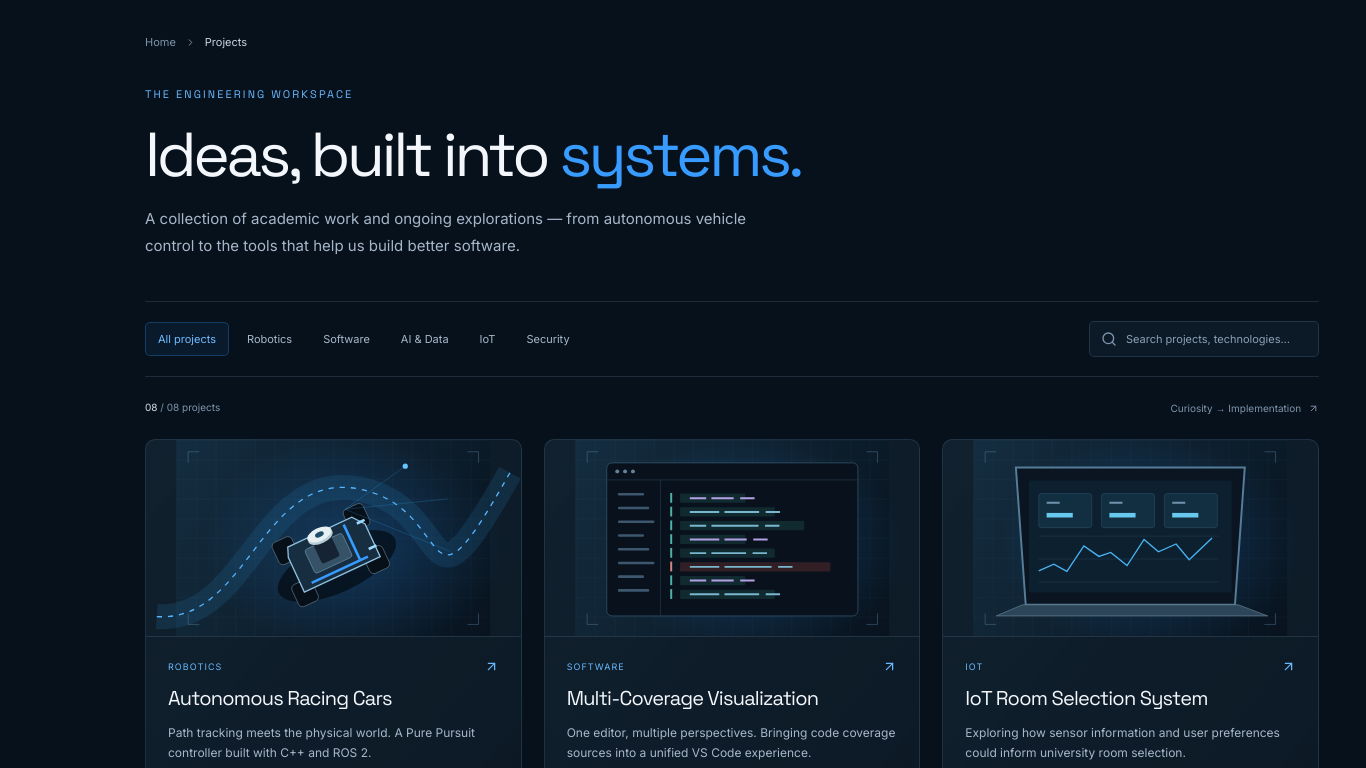
it: project discovery › supports category selection, search, no results and reset
The image size is (1366, 768).
Click the button "Robotics" at (270, 339), box [234,322,305,356]
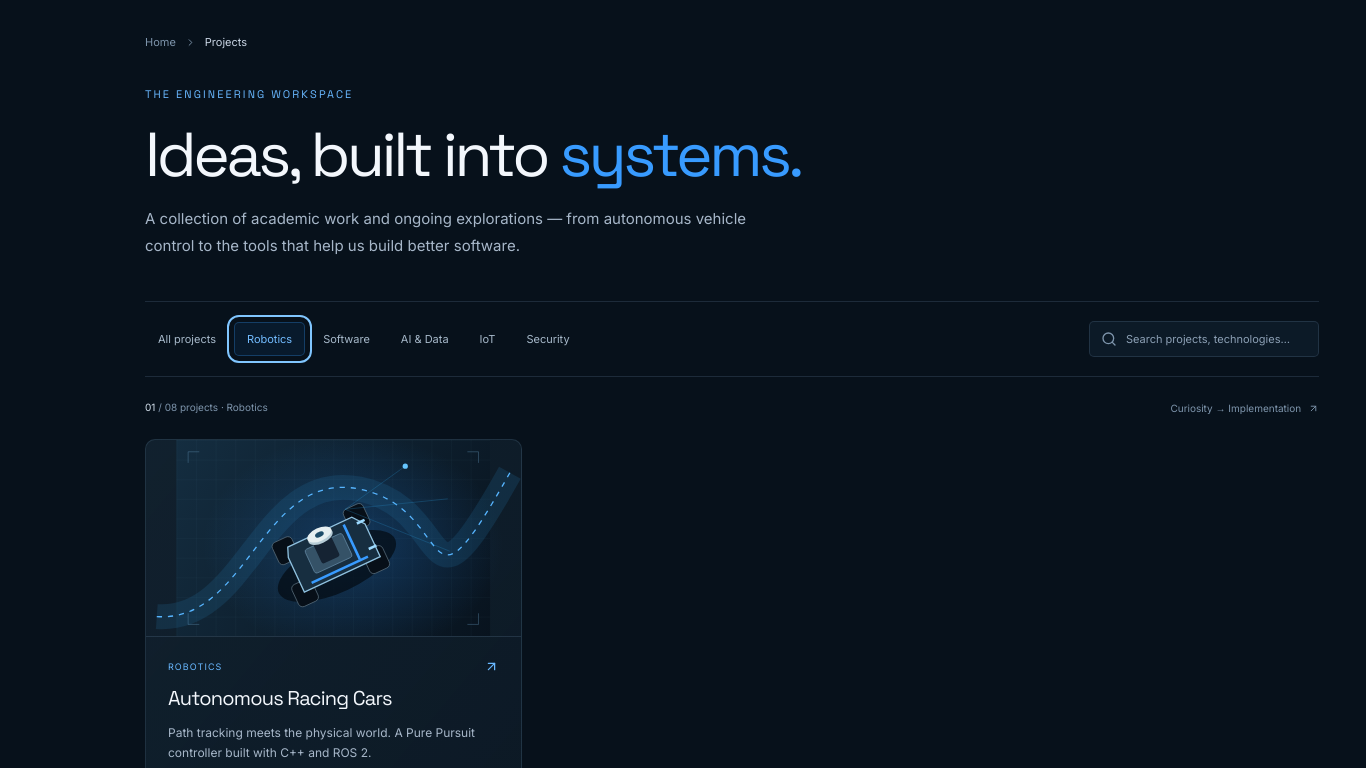
Expected: the heading "Autonomous Racing Cars" is shown, [168,686,392,711]
Type "unmatched text" into the search field at (1216, 339), box [1126,331,1307,347]
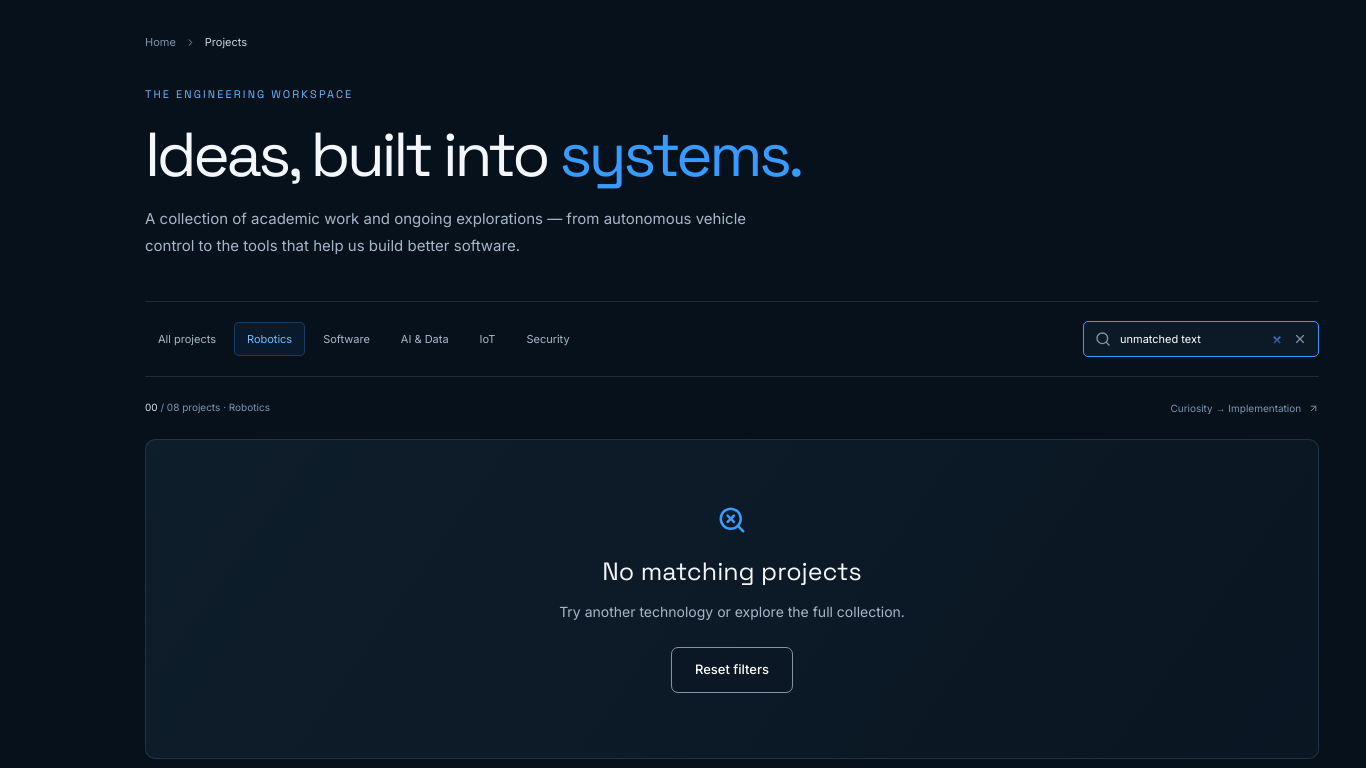
Result: the heading "No matching projects" is shown at [602,555,862,587]
Click the button "Reset filters" at (732, 670), box [671,647,793,693]
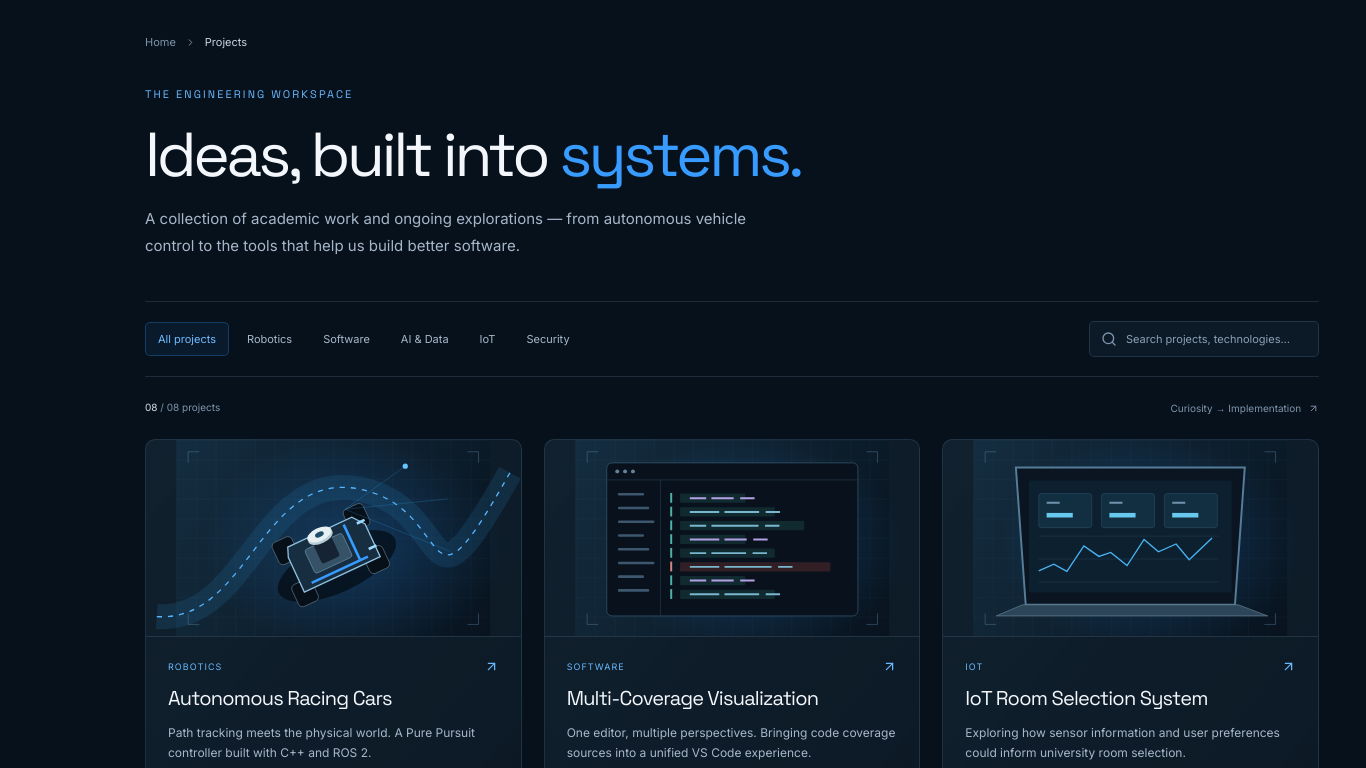
Result: the number of links named "case study" is 8
Result: the search field is empty at [1126,331,1307,347]
